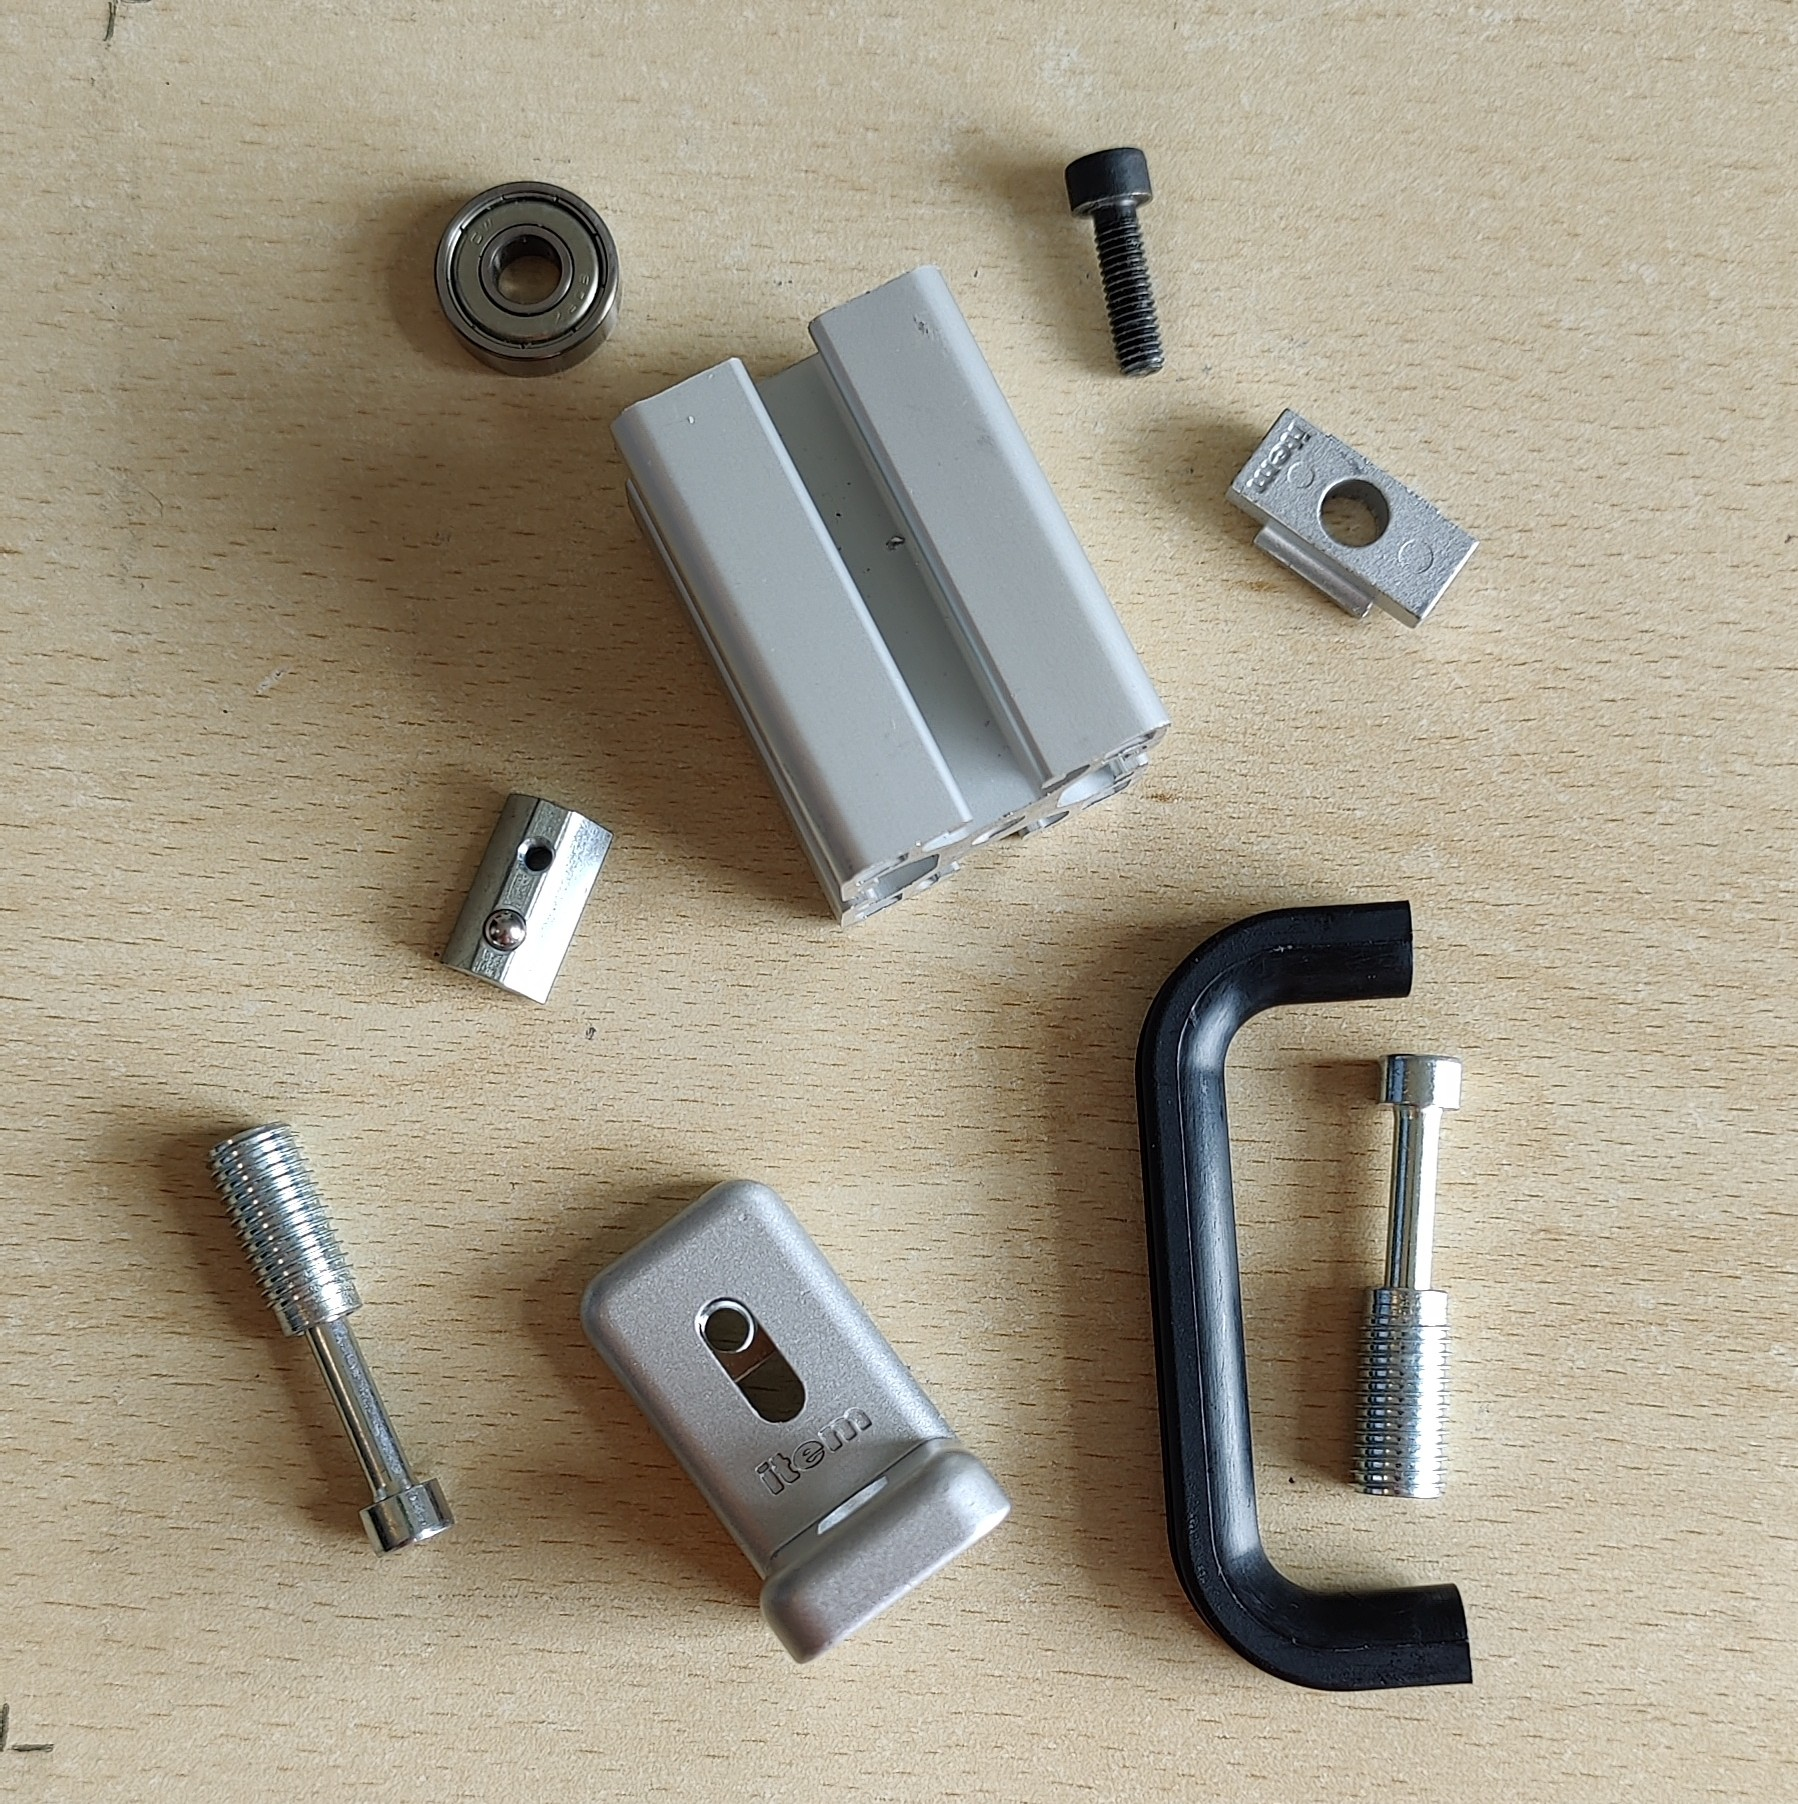Aluminium Extension: (608, 258, 1177, 933)
Ball Bearing: (430, 174, 626, 380)
Multiwinkel: (576, 1174, 1014, 1667)
Pull Handle: (1130, 895, 1475, 1694)
Shoulder Socket Head Cap Screw: (199, 1118, 459, 1560), (1344, 1052, 1467, 1504)
Socket Head Cap Screw: (1060, 142, 1166, 382)
T Nut Square: (1218, 405, 1482, 634)
T Spring Nut: (436, 788, 616, 1007)
